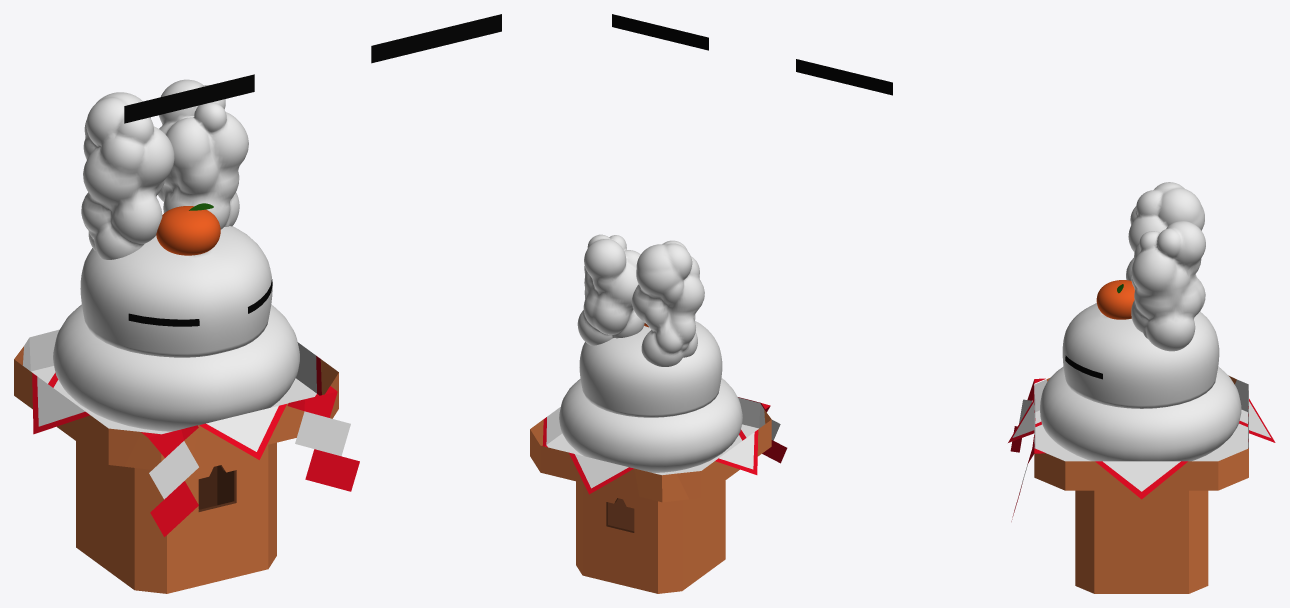
Rendered from asset.glb.
The picture shows the model from 3 angles, left to right: view 1: azimuth 30°, elevation 25°; view 2: azimuth 150°, elevation 25°; view 3: azimuth 270°, elevation 25°; orthographic projection. The views are drawn at different scales.
Visible parts, largest first — view 1: mochi, dodai, Icosphere, kamihimo, eyes, mikan; view 2: dodai, mochi, Icosphere, eyes, kamihimo; view 3: dodai, mochi, Icosphere, mikan, kamihimo.
Part boxes in pixels (left/top/right/bottom): mochi: left=53, top=226, right=299, bottom=431; dodai: left=14, top=329, right=338, bottom=593; Icosphere: left=81, top=79, right=248, bottom=259; kamihimo: left=141, top=386, right=359, bottom=536; eyes: left=124, top=14, right=501, bottom=123; mikan: left=156, top=203, right=220, bottom=255; dodai: left=530, top=397, right=771, bottom=593; mochi: left=559, top=321, right=742, bottom=472; Icosphere: left=577, top=234, right=704, bottom=366; eyes: left=612, top=14, right=892, bottom=95; kamihimo: left=738, top=397, right=787, bottom=463; dodai: left=1008, top=375, right=1275, bottom=593; mochi: left=1040, top=303, right=1241, bottom=461; Icosphere: left=1126, top=182, right=1205, bottom=351; mikan: left=1096, top=280, right=1134, bottom=319; kamihimo: left=1010, top=378, right=1045, bottom=521.
Bounding box in the file's own units: 2.04 × 3.05 × 2.05.
